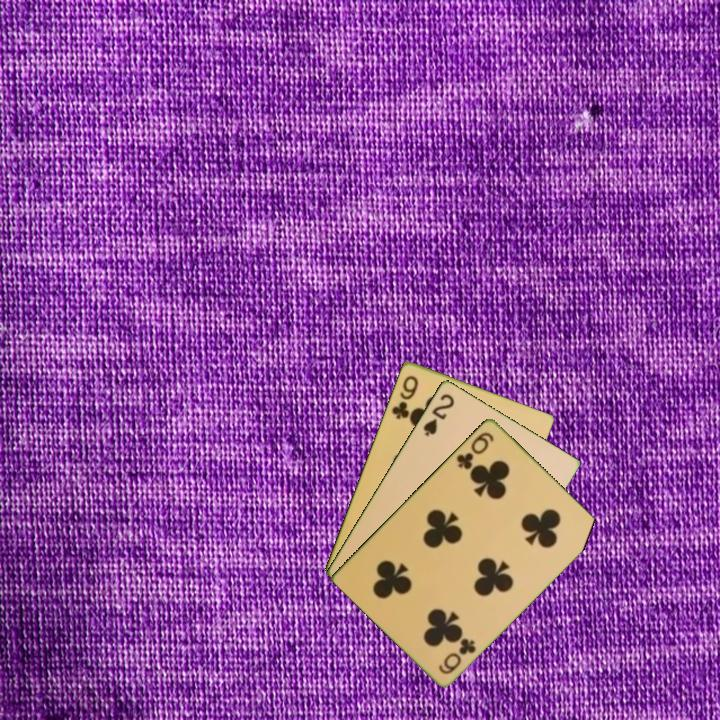2s: (419, 390, 457, 439)
6c: (453, 428, 497, 472), (435, 634, 479, 677)
9c: (388, 371, 421, 422)
